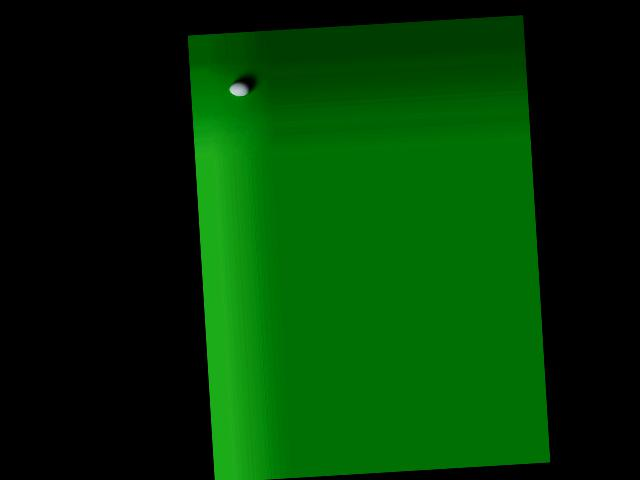egg: (229, 80, 251, 97)
